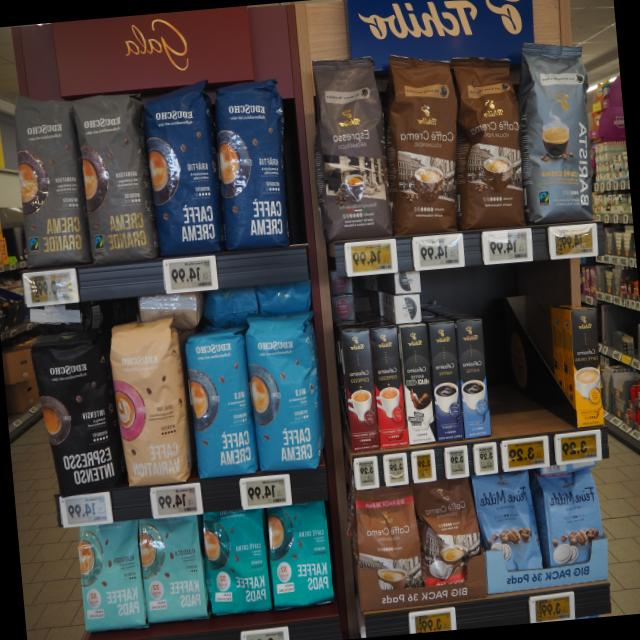Barista CC: (505, 30, 605, 228)
CC Vollmundig: (348, 485, 425, 607), (413, 478, 482, 600)
CC Vollmundig 36 Pads: (380, 43, 470, 238), (444, 51, 536, 232)
Empty Shelf: (511, 313, 550, 432), (483, 315, 520, 435), (540, 309, 576, 429)
Espresso Aromatisch: (300, 49, 400, 242)
FM 36 Pads: (473, 470, 545, 591), (534, 465, 608, 578)
Simo CCMild bigpack: (569, 306, 605, 428)
Simo Es Elegant: (369, 325, 409, 448)
Simo Es Kraft: (340, 328, 380, 452)
Simo Kaffee BW: (399, 323, 436, 444)
Simo Kaffee Kraft: (428, 319, 464, 444)
Simo Kaffee Mild: (455, 317, 492, 439)
